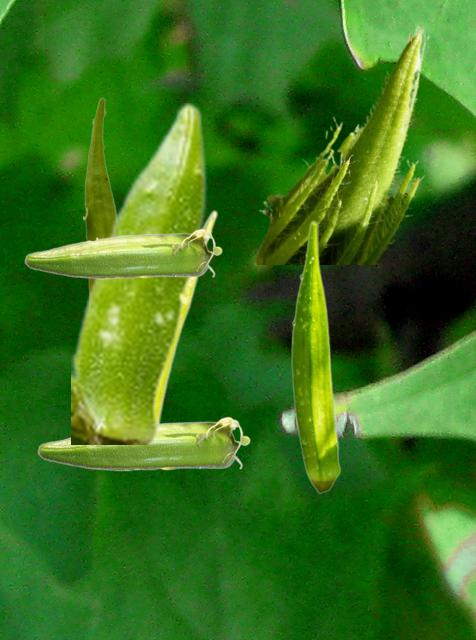okra: (71, 100, 207, 443), (251, 25, 429, 263), (291, 220, 340, 493), (158, 209, 216, 422), (37, 416, 249, 470), (24, 228, 221, 278), (83, 97, 116, 289)
